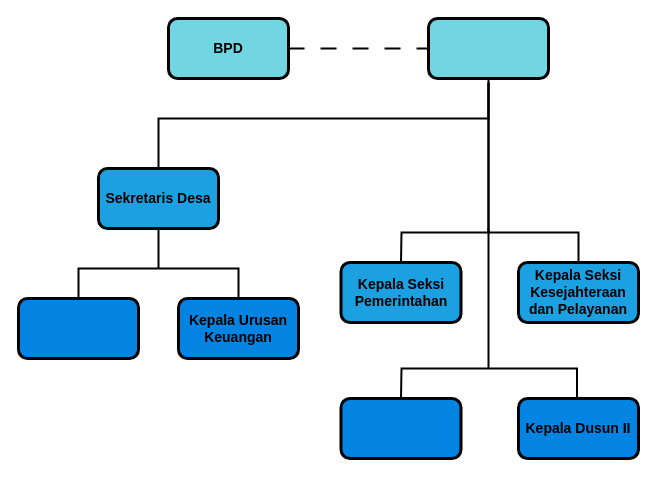
Image size: 657x477. Some labels were removed from this diagram. Each missing label, with the centre of its shape:
Kepala Desa: (488,48)
Kepala Dusun I: (400,428)
Kepala Urusan Umum dan Perencanaan: (78,328)
